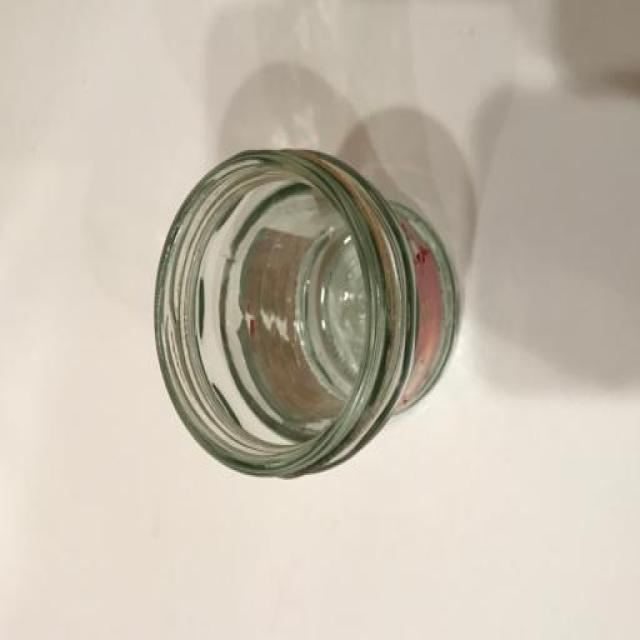glass: (152, 147, 462, 478)
